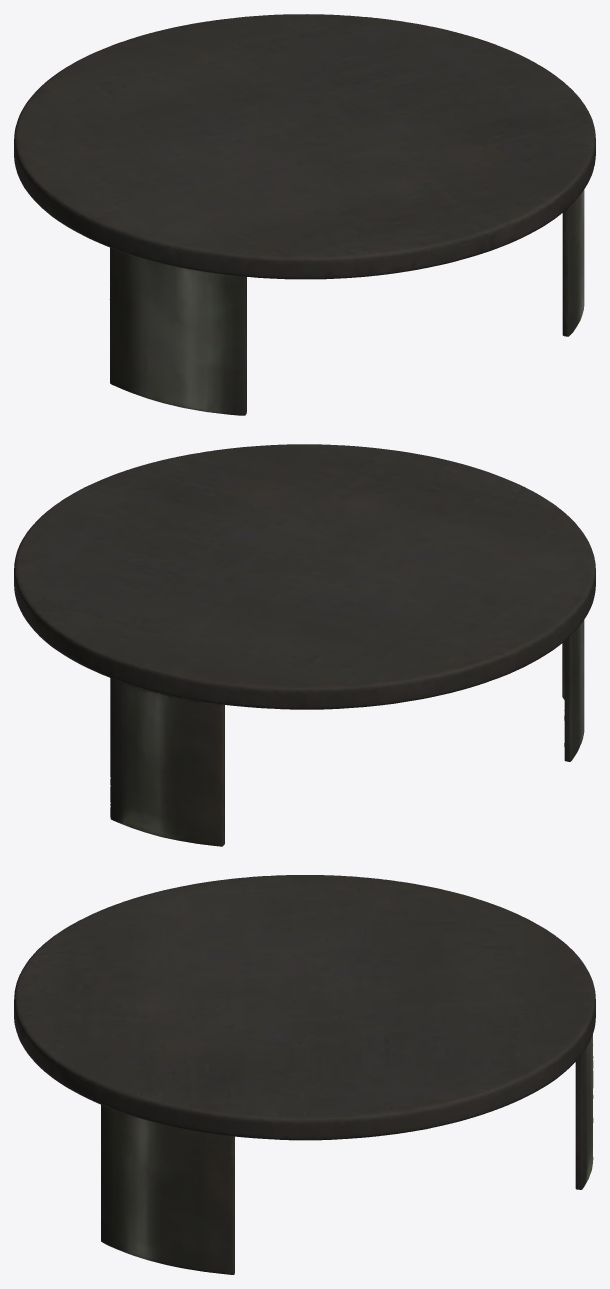
Rendered from fm_coffee_table_oak.glb.
The picture shows the model from 3 angles, top to bottom: view 1: azimuth 30°, elevation 25°; view 2: azimuth 150°, elevation 25°; view 3: azimuth 270°, elevation 25°; orthographic projection.
Parts seen in each view (by area): view 1: geometry_0; view 2: geometry_0; view 3: geometry_0.
Boxes of the visible parts, box(x1,y1,x2,y2) form: geometry_0: box(14, 14, 595, 415); geometry_0: box(14, 444, 595, 846); geometry_0: box(14, 875, 595, 1274).
Bounding box in the file's own units: 1 × 0.3173 × 1.
Materials: 1 (1 with a texture image).
